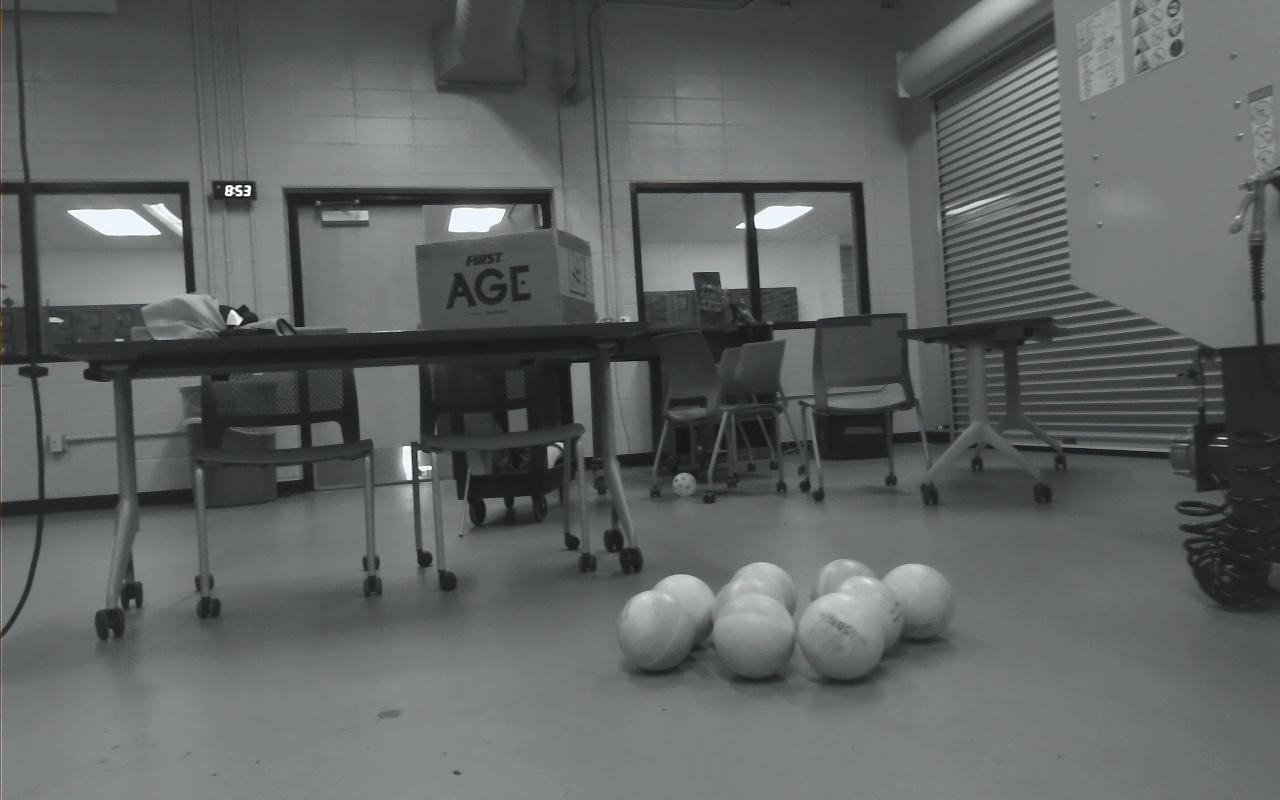Fuel: (797, 592, 886, 681), (713, 592, 796, 679), (614, 589, 695, 672), (829, 575, 904, 655), (881, 563, 954, 640), (648, 572, 717, 649), (714, 575, 788, 637), (728, 562, 797, 619), (809, 557, 881, 609)
